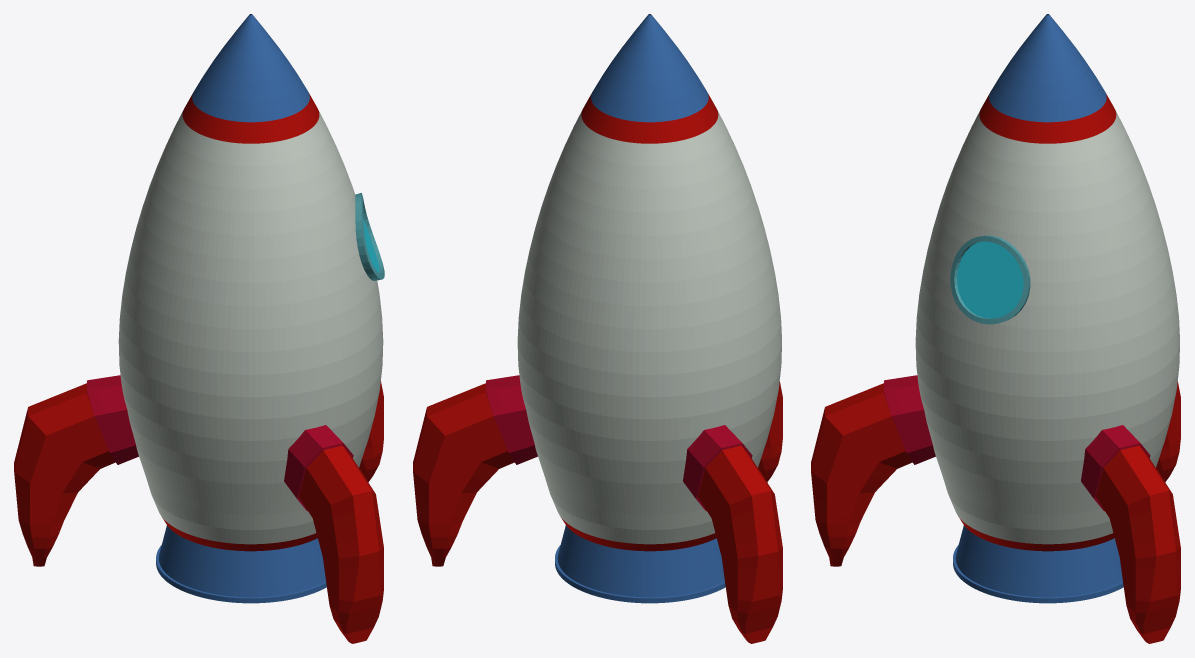
File: Rakete.glb
3 renders of one model, left to right at view 1: azimuth 30°, elevation 25°; view 2: azimuth 150°, elevation 25°; view 3: azimuth 270°, elevation 25°, orthographic.
Parts seen in each view (by area): view 1: Rocket; view 2: Rocket; view 3: Rocket.
Part boxes in pixels (bbox=[...]): Rocket: bbox=[14, 14, 384, 643]; Rocket: bbox=[413, 14, 782, 643]; Rocket: bbox=[811, 14, 1180, 643].
Bounding box in the file's own units: 4.58 × 6.57 × 4.01.
